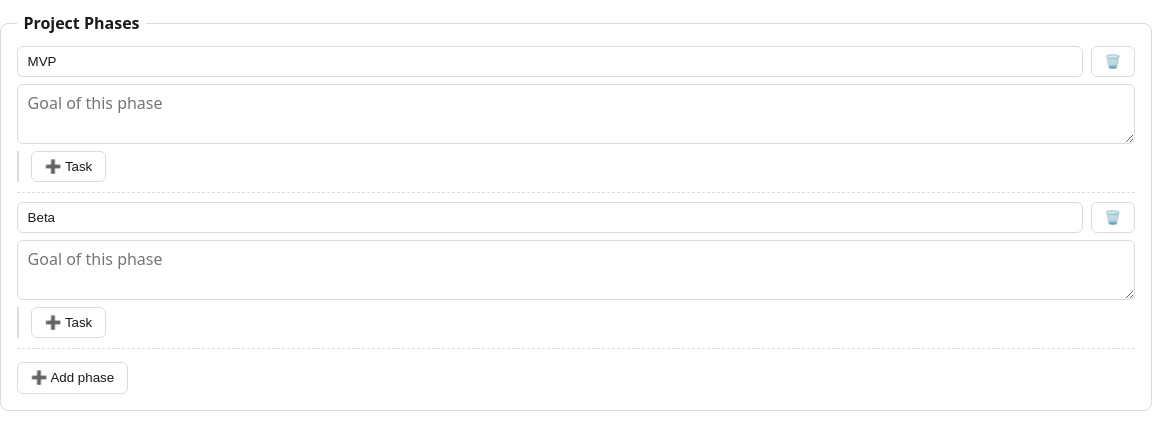
Test case: PhasesEditor › removing a phase deletes it entirely
Click the button named "Project Phases 1".
click(1113, 62)  # box [1091, 46, 1135, 77]
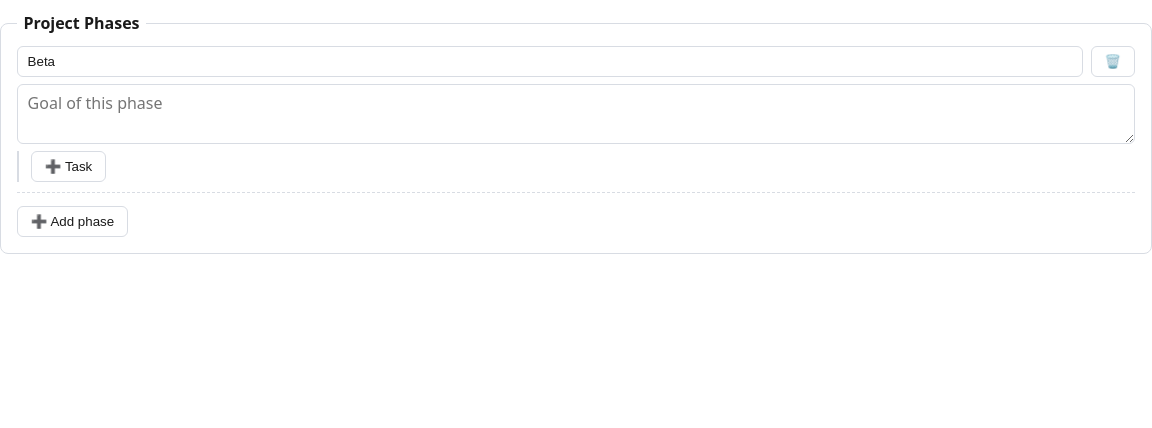
Check: the field named "Phase name" holds "Beta", box [17, 46, 1083, 77]
